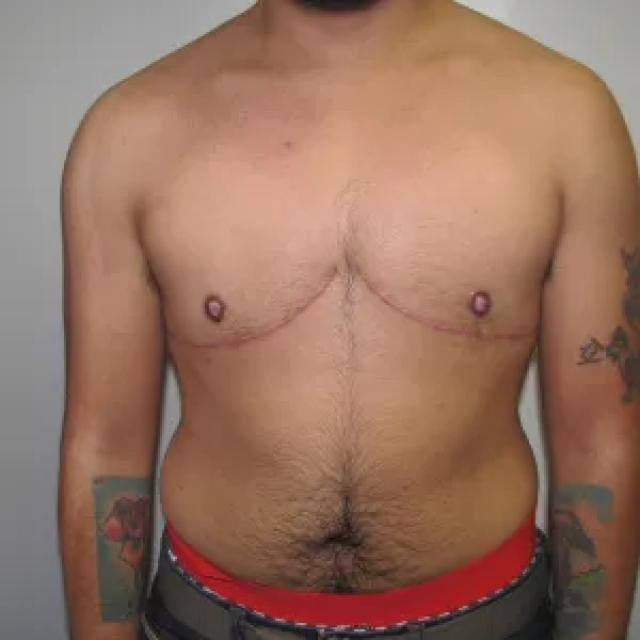Seno herido: (353, 227, 548, 360), (145, 229, 339, 358)
